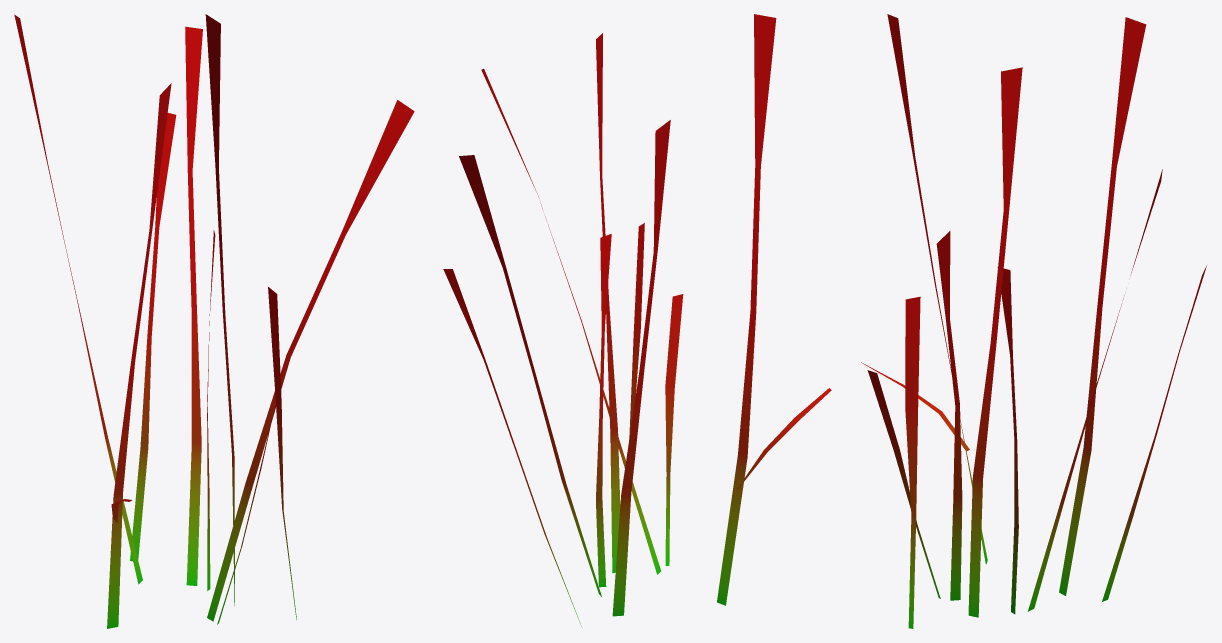
The model's file is Tundra Grass_LOD5_Var14_wk2oaeyqx.fbx.
3 views of the same model, side by side, from view 1: azimuth 30°, elevation 25°; view 2: azimuth 150°, elevation 25°; view 3: azimuth 270°, elevation 25° (orthographic). The views are drawn at different scales.
Visible parts, largest first — view 1: _pz1m_Var14_LOD5; view 2: _pz1m_Var14_LOD5; view 3: _pz1m_Var14_LOD5.
Boxes of the visible parts, box(x1,y1,x2,y2) form: _pz1m_Var14_LOD5: box(14, 14, 414, 628); _pz1m_Var14_LOD5: box(443, 14, 831, 626); _pz1m_Var14_LOD5: box(861, 14, 1206, 628).
Bounding box in the file's own units: 19 × 32.22 × 18.4.
